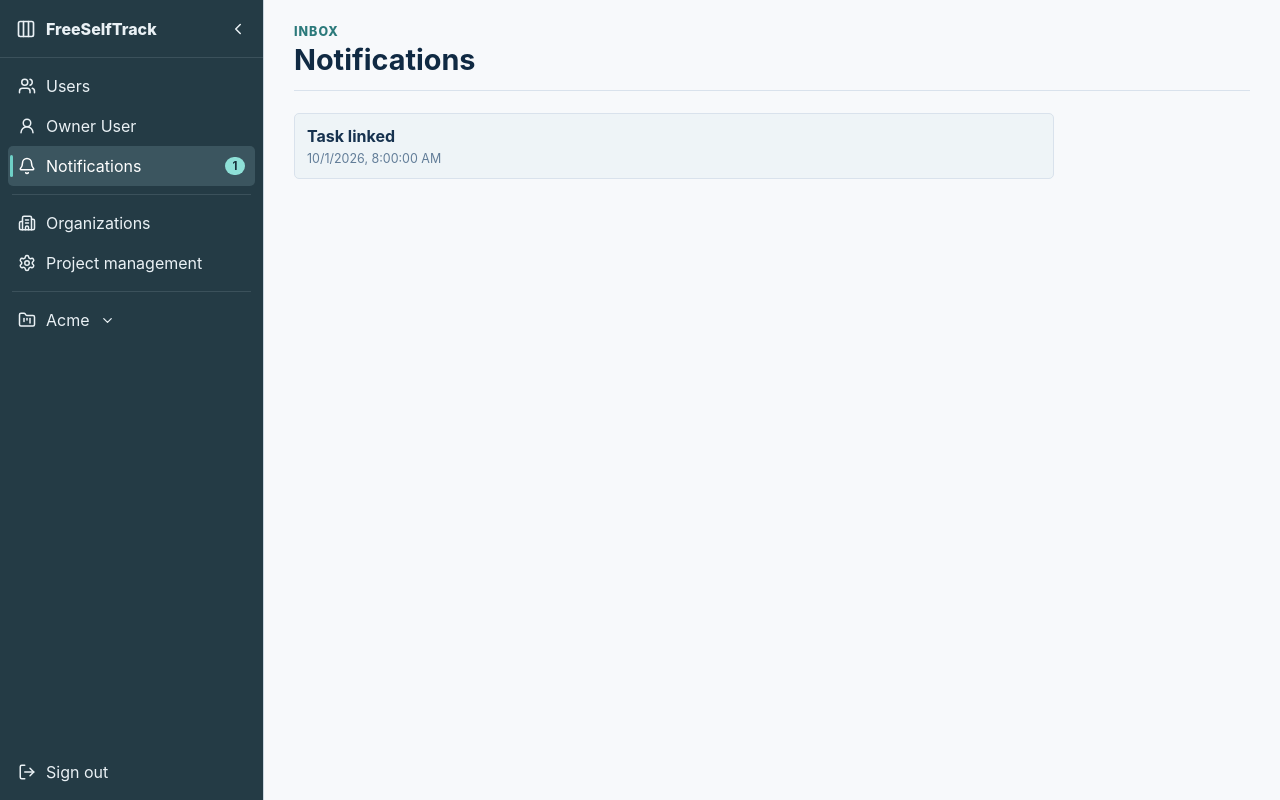
Test: opens a notification on the addressable task route
What coordinates should you click on to do the following:
click the text "Task linked"
I would click on:
 (351, 136)
Its box is [307,126,395,146].
(page scrolled)
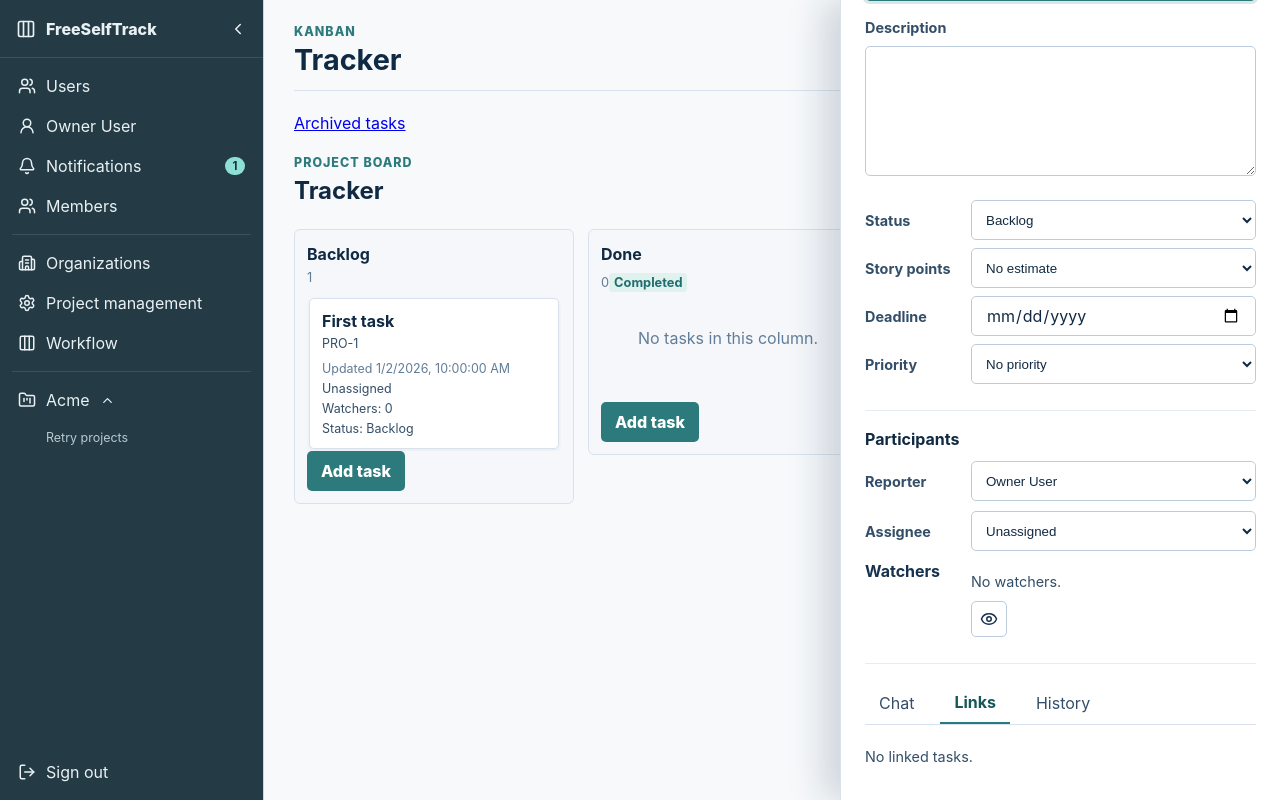
Expected: the element named "Tracker Kanban" is shown, [294,155,868,504]
Expected: the tabs read "Chat", "Links", "History", in this order, [865,682,928,724]; [940,682,1010,724]; [1022,682,1104,724]
